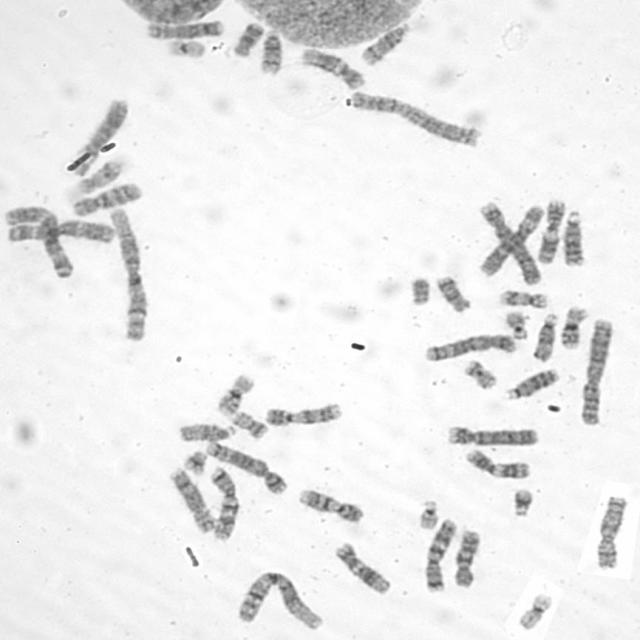A1: (107, 203, 150, 343), (233, 568, 324, 631)
A2: (345, 86, 484, 150), (576, 316, 616, 428)
A3: (2, 201, 77, 281), (3, 216, 118, 245)
B4: (476, 201, 546, 283), (444, 423, 540, 447)
B5: (202, 438, 288, 496), (422, 331, 519, 363)
C10: (68, 179, 143, 218), (450, 526, 483, 590)
C11: (533, 197, 567, 266), (462, 447, 532, 480)
C12: (332, 538, 392, 597), (297, 44, 366, 91)
C6: (63, 96, 130, 176), (480, 204, 546, 277)
C7: (421, 516, 459, 594), (205, 465, 241, 542)
C8: (165, 464, 216, 534), (143, 18, 225, 40)
C9: (295, 485, 365, 524), (262, 400, 344, 427)
D13: (501, 365, 561, 402), (560, 208, 586, 268)
D14: (357, 18, 412, 66), (256, 27, 284, 76)
D15: (530, 311, 560, 364), (174, 420, 240, 443)
E16: (213, 371, 256, 417), (556, 303, 590, 350)
E17: (73, 158, 126, 195), (496, 288, 550, 310)
E18: (433, 272, 472, 314), (230, 19, 266, 58)
F19: (514, 590, 555, 631), (162, 36, 208, 60)
F20: (228, 407, 270, 439), (461, 356, 499, 391)
G21: (507, 486, 537, 518), (180, 447, 208, 476)
G22: (414, 496, 442, 531), (503, 308, 531, 341)
X: (592, 492, 629, 572)
Y: (406, 274, 432, 306)
